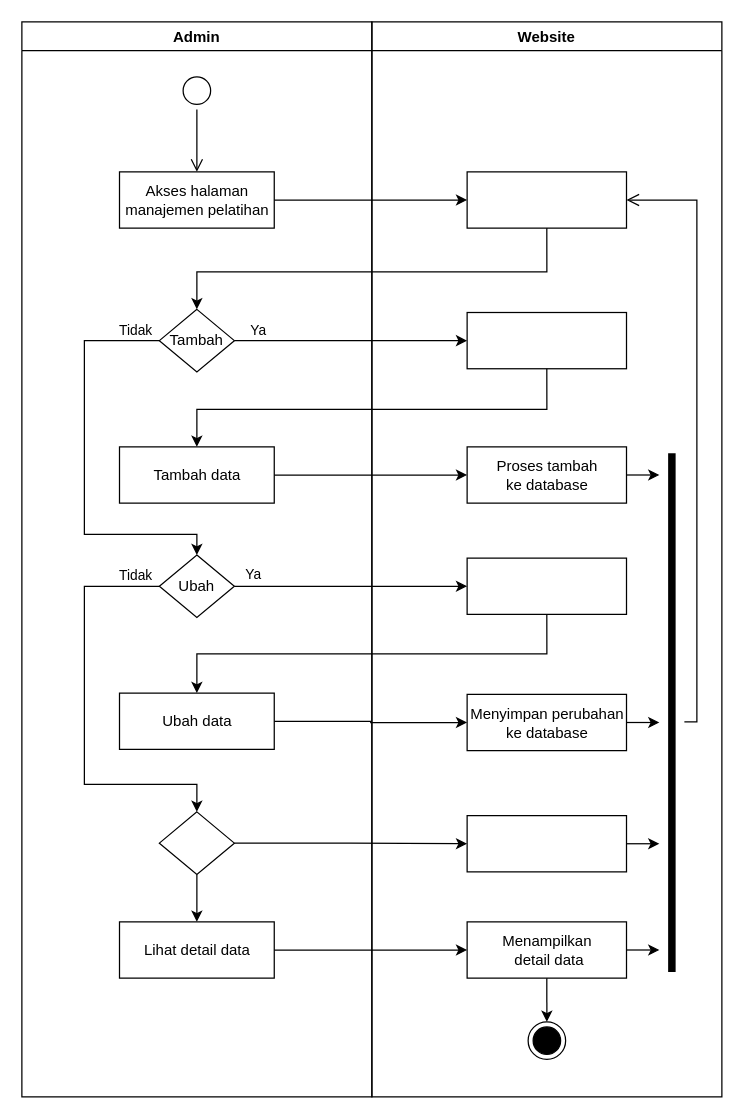
The diagram is 744 pixels wide and 1119 high, and some of its shapes have lost their labels. The shapes that lost their labels are listed below. From the top down, each one's centre as x and y in pixels, then its label:
At point (546, 199): "Menampilkan halaman manajemen pelatihan".
At point (546, 340): "Menampilkan halaman tambah".
At point (546, 585): "Menampilkan halaman edit".
At point (196, 842): "Hapus".
At point (546, 843): "Hapus data dari database".
